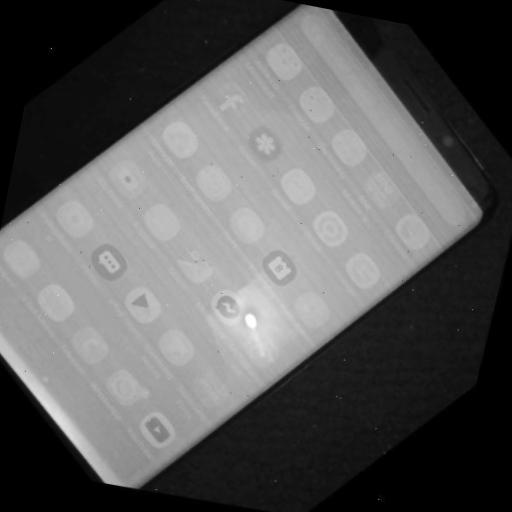phone: (0, 4, 503, 492)
